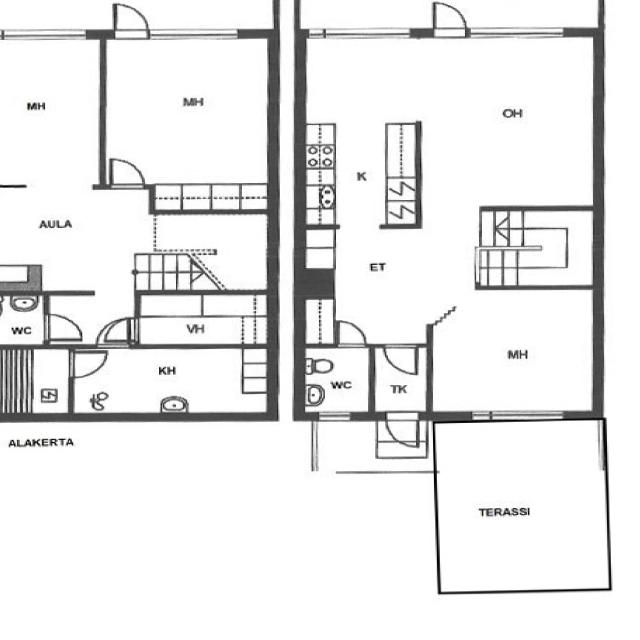door: (110, 156, 146, 190), (115, 3, 148, 39), (434, 2, 467, 38), (96, 317, 132, 349), (386, 412, 419, 446), (69, 352, 107, 379), (385, 344, 417, 374), (44, 315, 82, 340), (337, 319, 368, 348), (104, 318, 140, 342)
